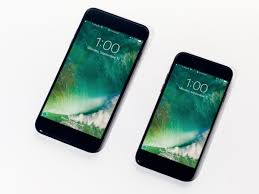samsung: (30, 5, 151, 153), (134, 48, 234, 186)
